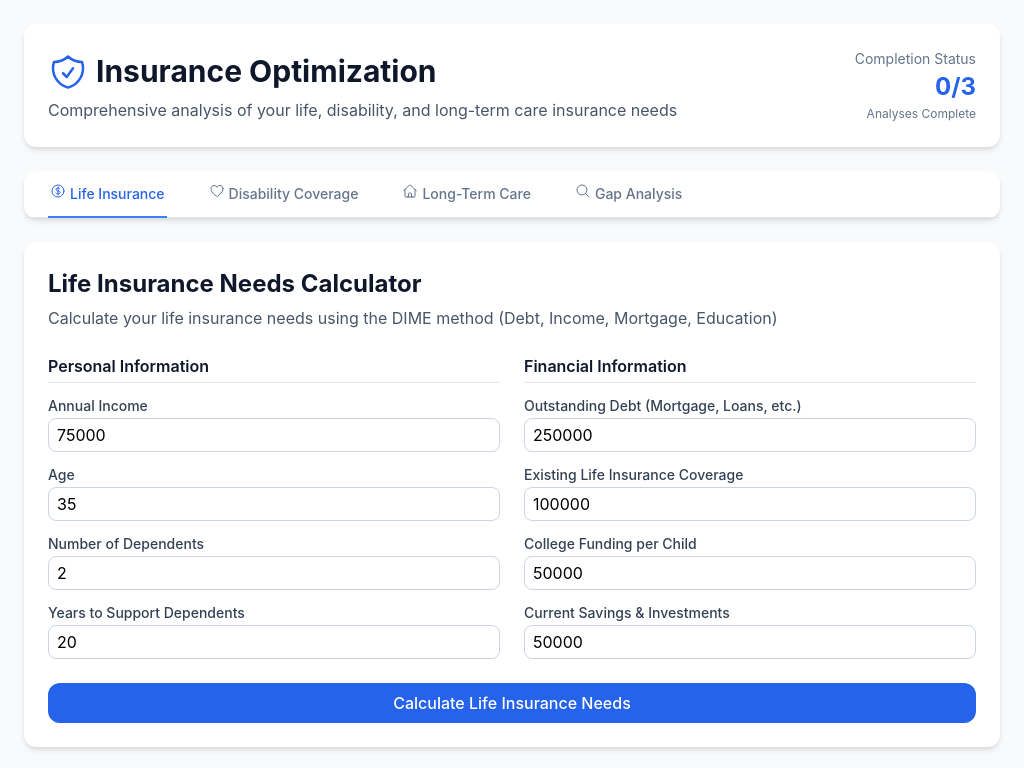
Scenario: Insurance Optimization Dashboard › switches between tabs
The width and height of the screenshot is (1024, 768).
Click the button "Disability Coverage" at (284, 194), box [207,171,360,218]
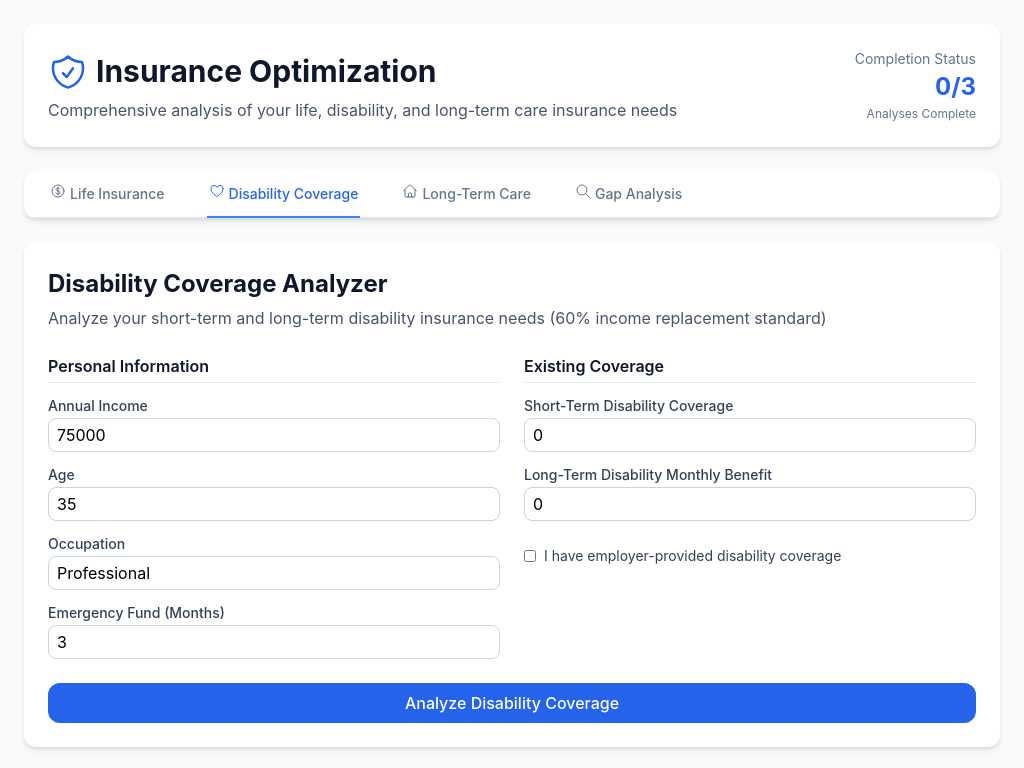
Now the heading "Disability Coverage Analyzer" is shown, box [48,269,388,298]
